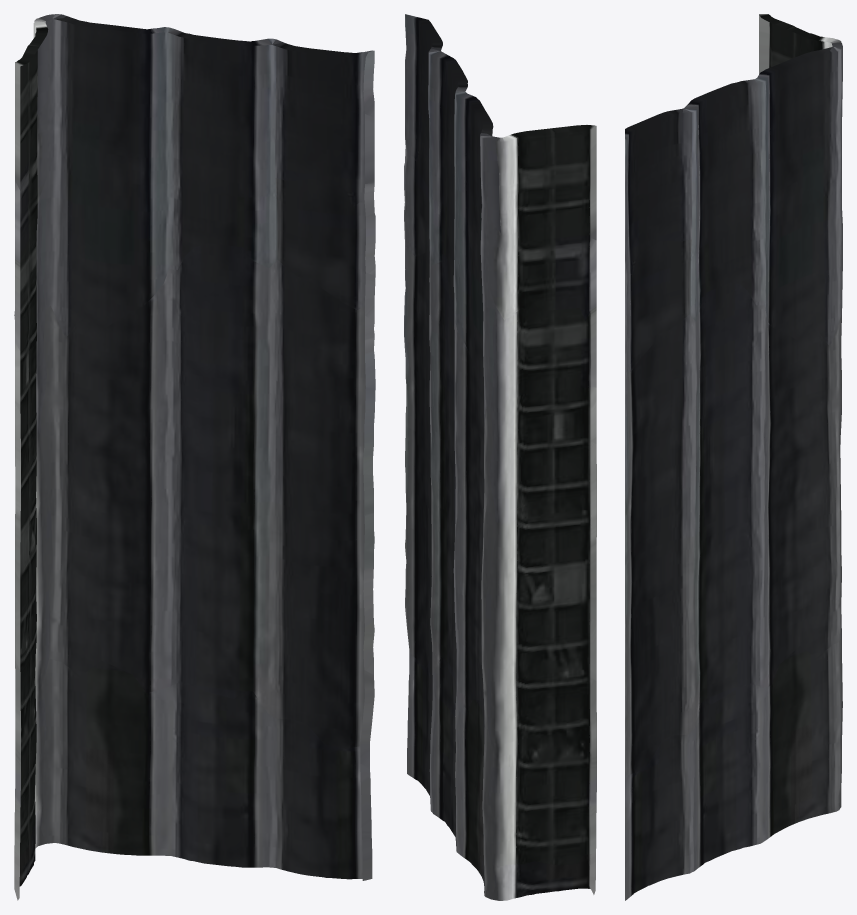
File: z20-167778-405233-h1-yup-uvflip-v3-world.glb
3 renders of one model, left to right at view 1: azimuth 30°, elevation 25°; view 2: azimuth 150°, elevation 25°; view 3: azimuth 270°, elevation 25°, orthographic. The views are drawn at different scales.
Bounding box in the file's own units: 14 × 39.64 × 10.16.
Materials: 1 (1 with a texture image).
